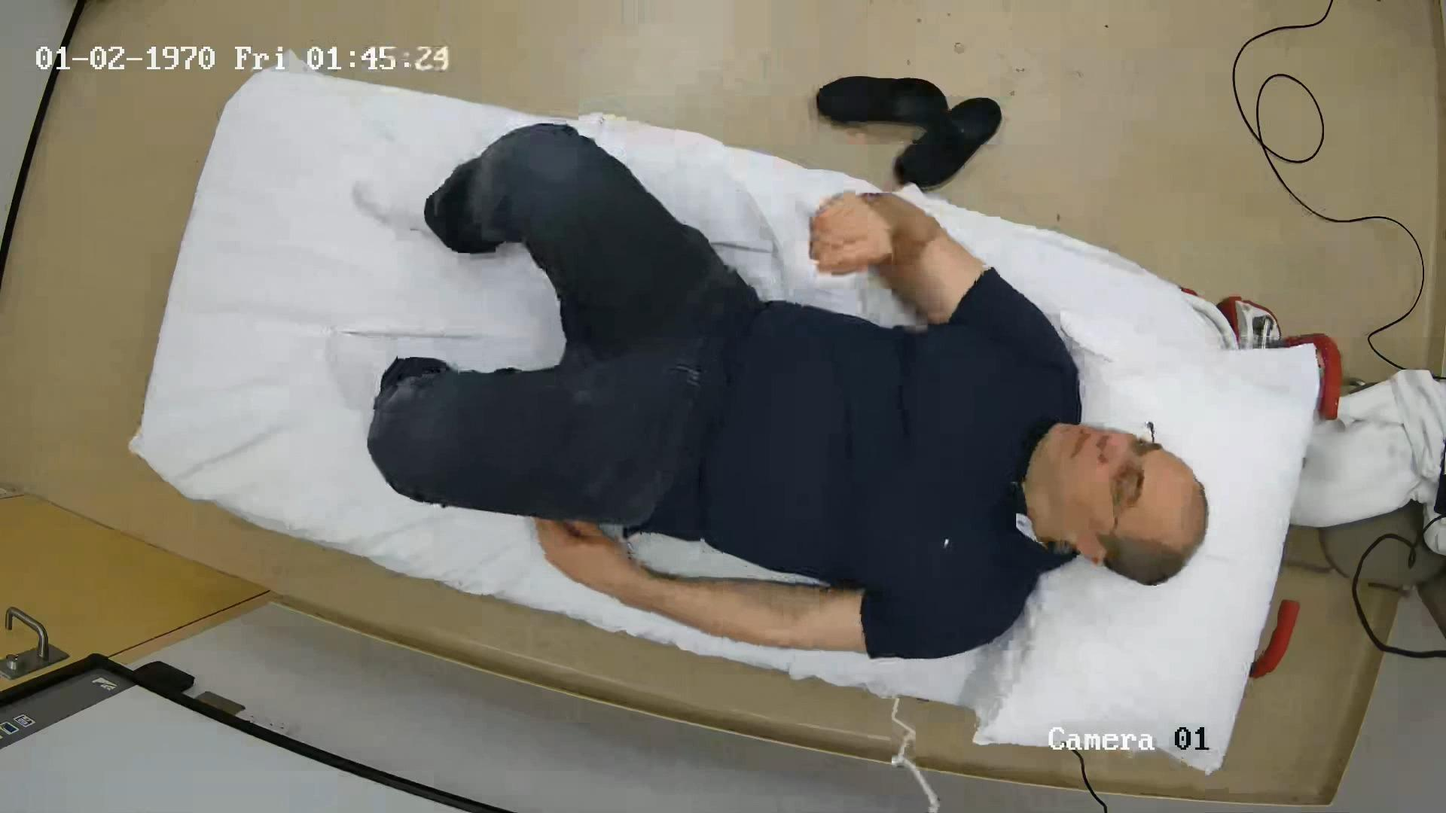bed: (134, 61, 1341, 772)
patient: (368, 123, 1217, 659)
